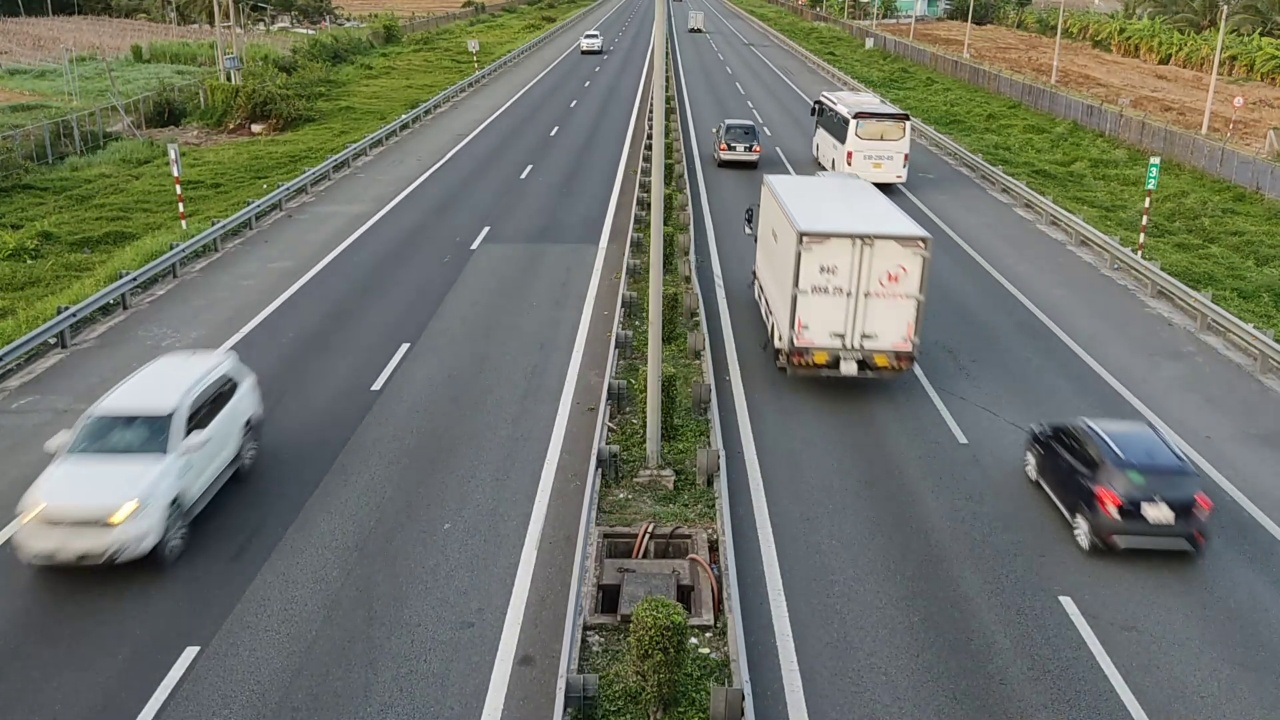bus: (808, 81, 917, 188)
car: (9, 347, 265, 571), (1021, 415, 1214, 559), (711, 119, 762, 168), (580, 30, 604, 53)
truck: (743, 171, 934, 381)
